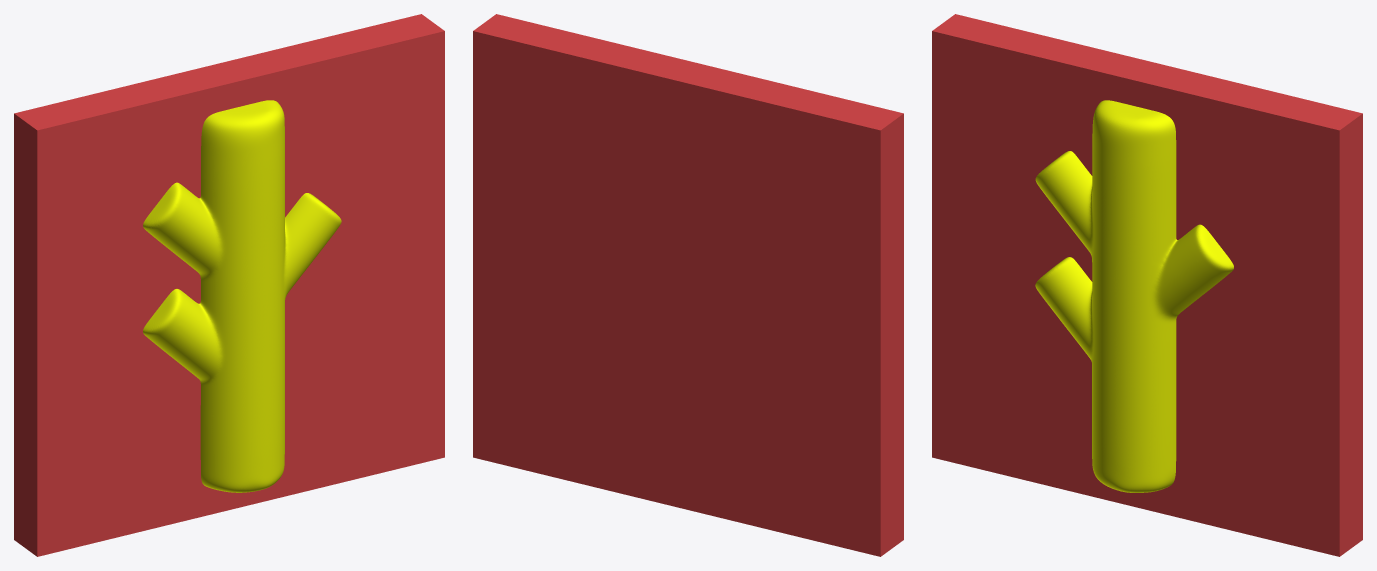
Rendered from Stammheim.glb.
The picture shows the model from 3 angles, left to right: view 1: azimuth 30°, elevation 25°; view 2: azimuth 150°, elevation 25°; view 3: azimuth 330°, elevation 25°; orthographic projection.
Visible parts, largest first — view 1: Box, Cylinder 2; view 2: Box; view 3: Box, Cylinder 2.
Part boxes in pixels (x1,y1,x2,y2): Box: (14, 14, 444, 556); Cylinder 2: (143, 100, 341, 492); Box: (473, 14, 903, 556); Box: (932, 14, 1362, 556); Cylinder 2: (1035, 100, 1233, 492).
Size of the model in its own units: 4.1 by 4.1 by 0.7589.
